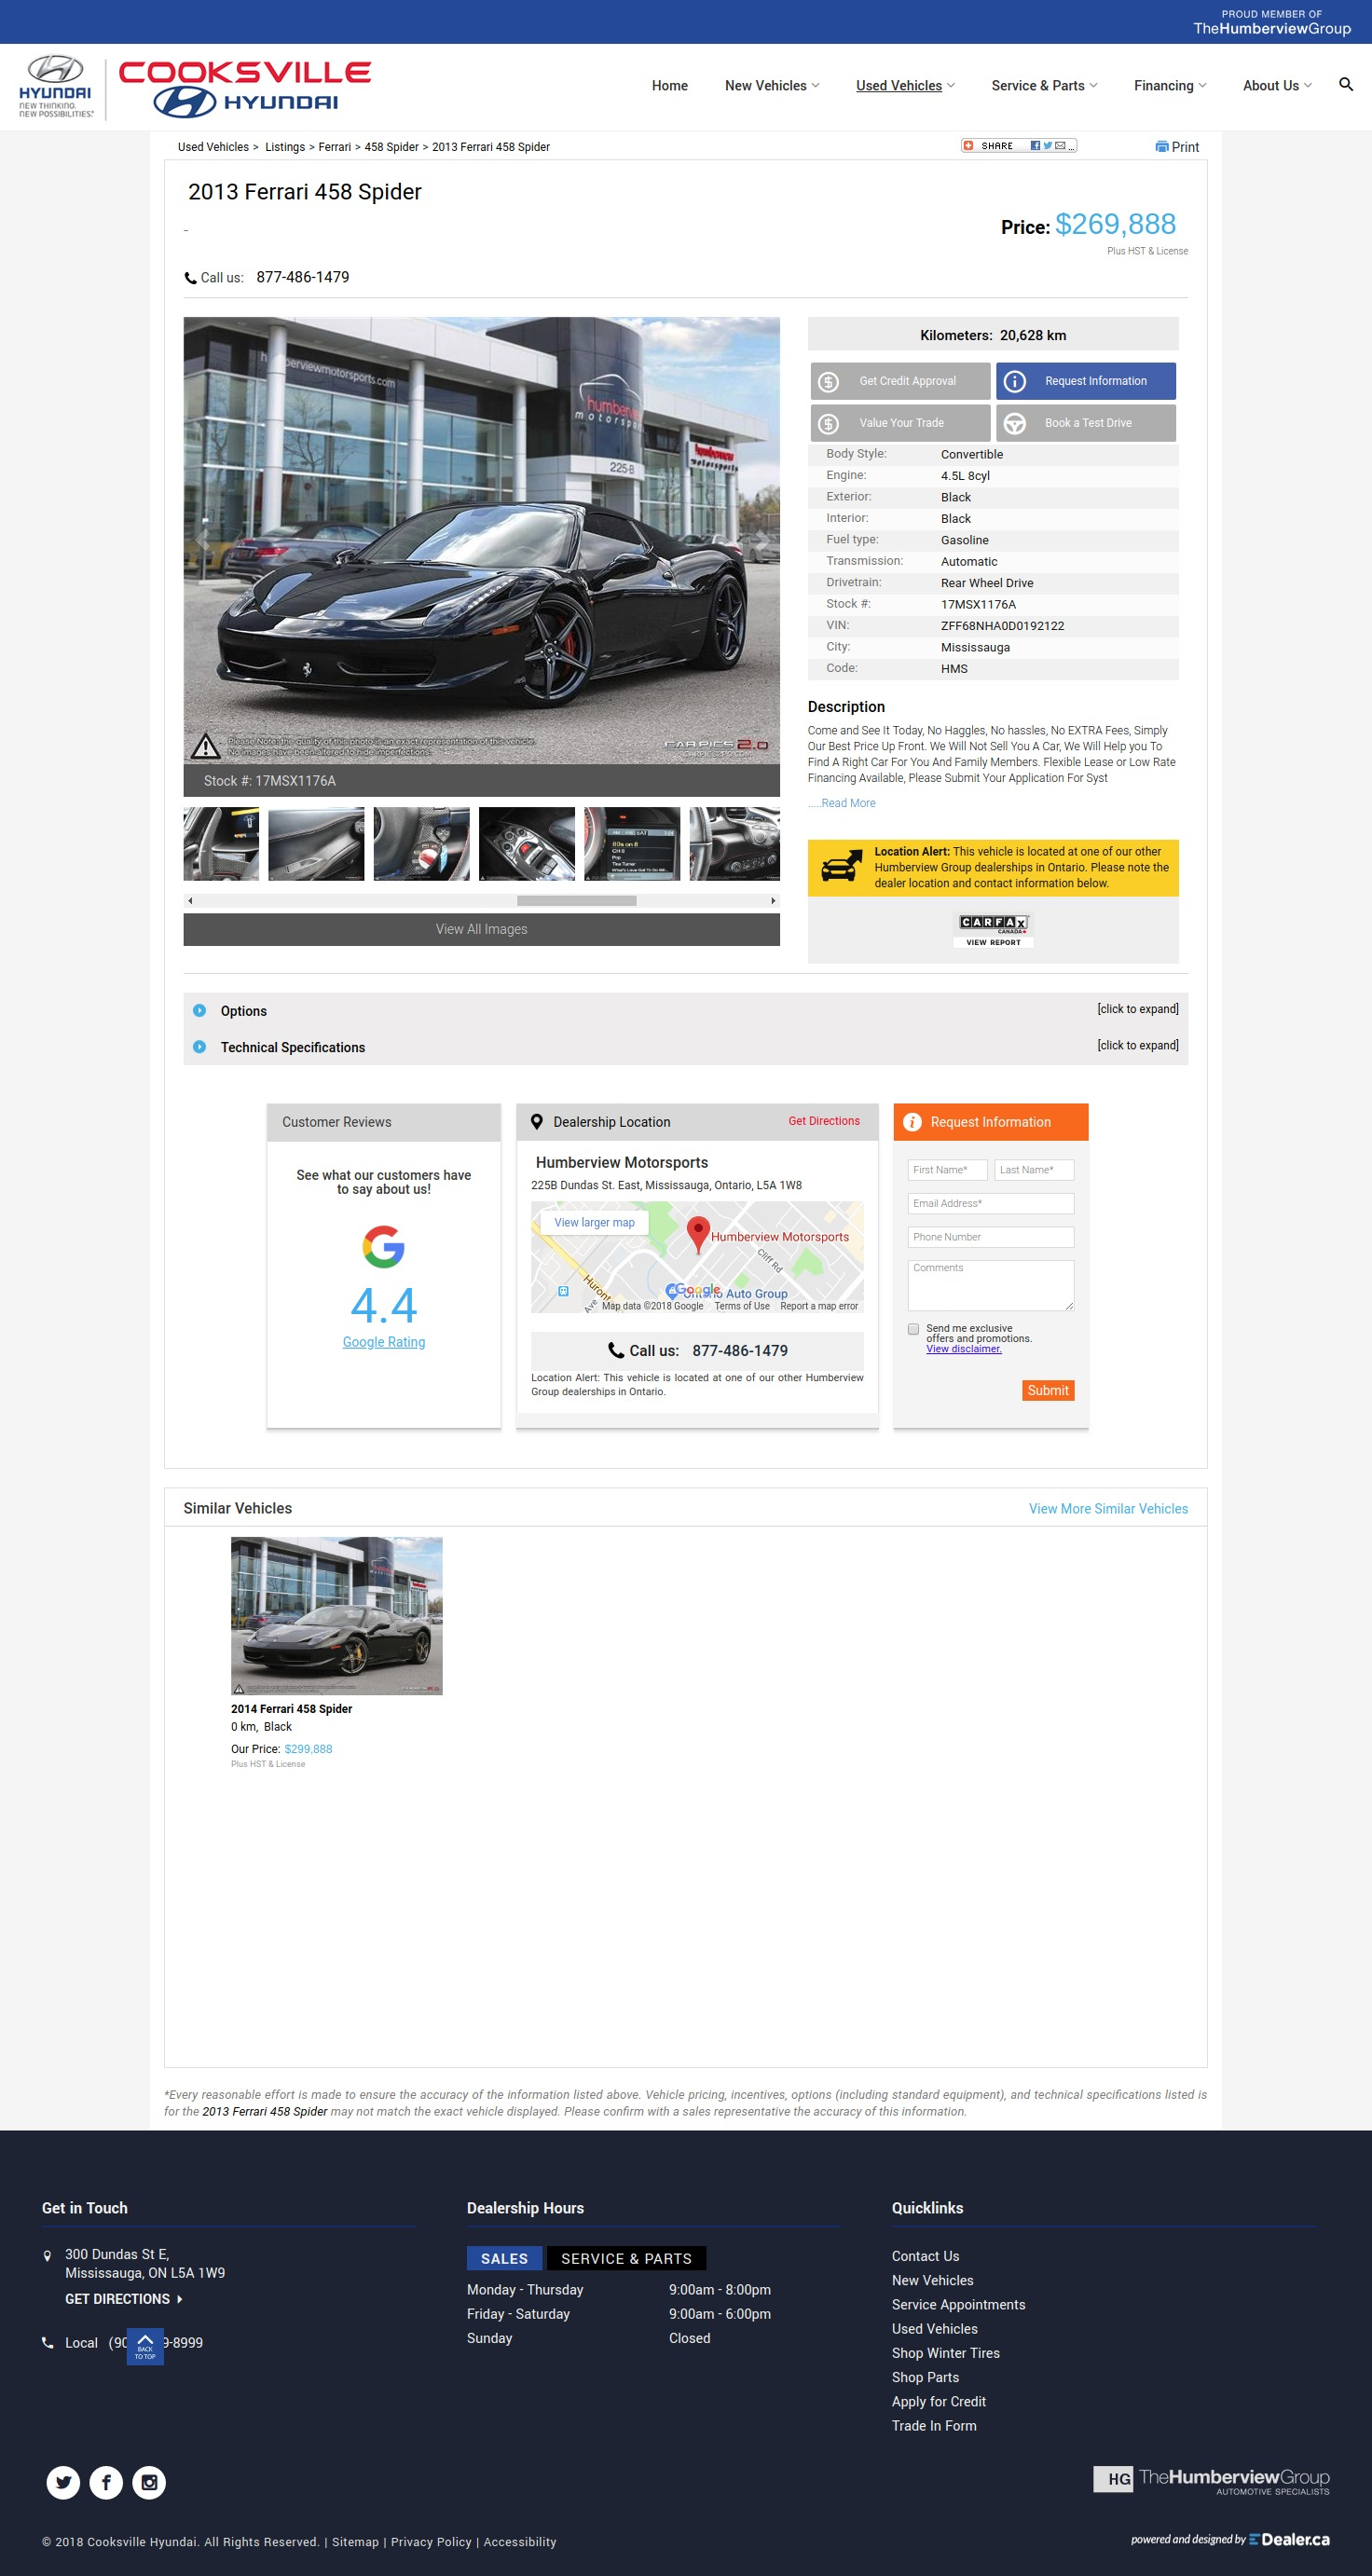car: (772, 898, 777, 905)
